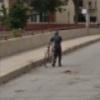bicycles: (44, 41, 55, 68)
